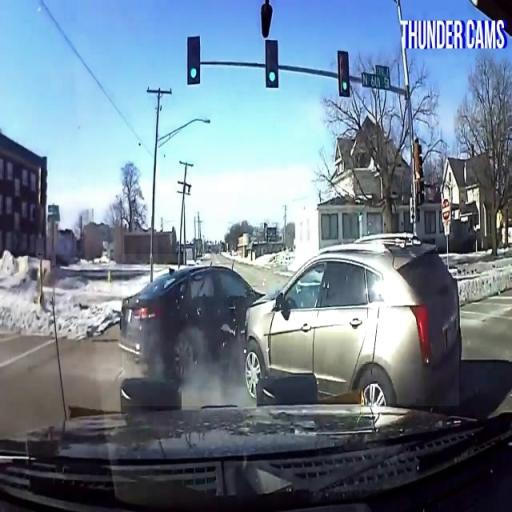小汽车撞小汽车: (122, 254, 459, 406)
